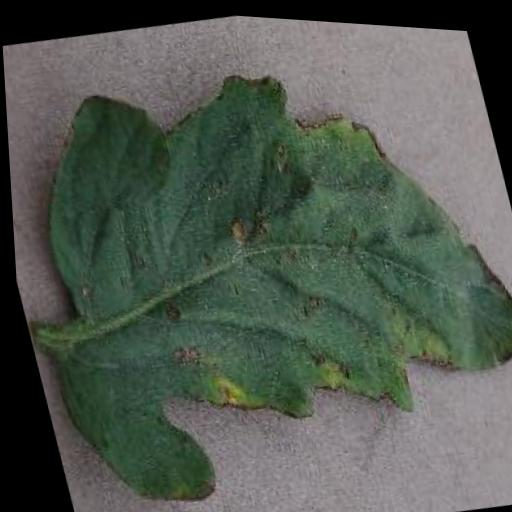Bacterial Spot: (0, 9, 512, 512)
